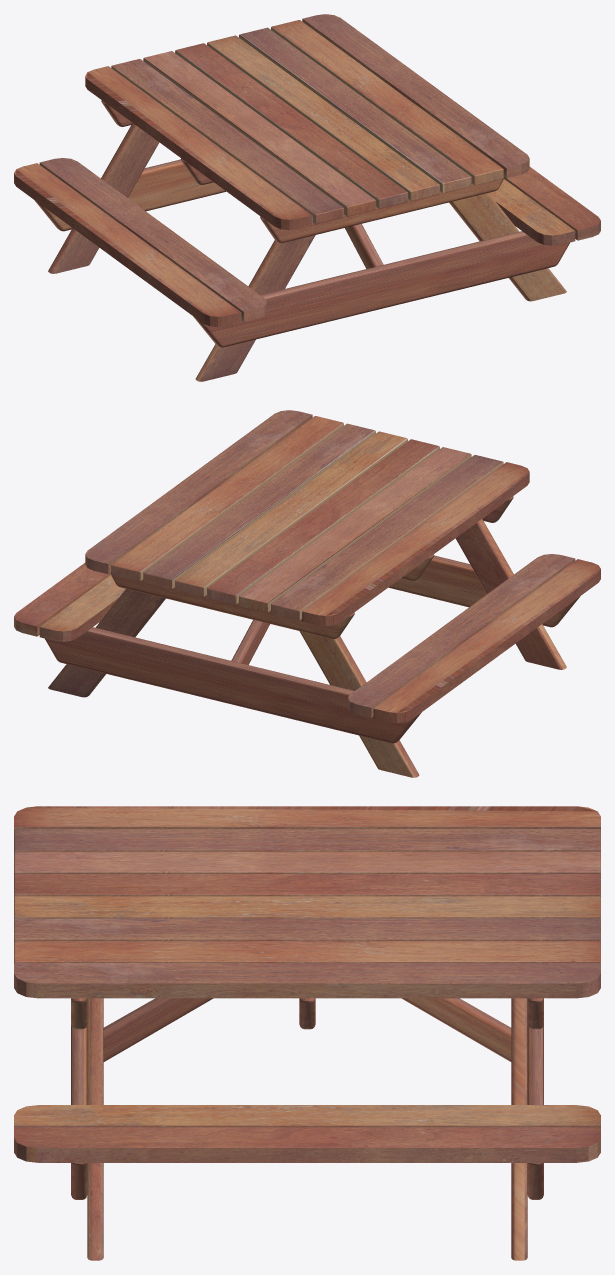
Rendered from table.fbx.
3 renders of one model, top to bottom at view 1: azimuth 30°, elevation 25°; view 2: azimuth 150°, elevation 25°; view 3: azimuth 270°, elevation 25°, orthographic. The views are drawn at different scales.
Parts seen in each view (by area): view 1: pCube27; view 2: pCube27; view 3: pCube27.
Part boxes in pixels (bbox=[...]): pCube27: bbox=[14, 14, 600, 381]; pCube27: bbox=[14, 410, 600, 777]; pCube27: bbox=[14, 806, 600, 1260].
Bounding box in the file's own units: 80.5 × 32 × 72.
